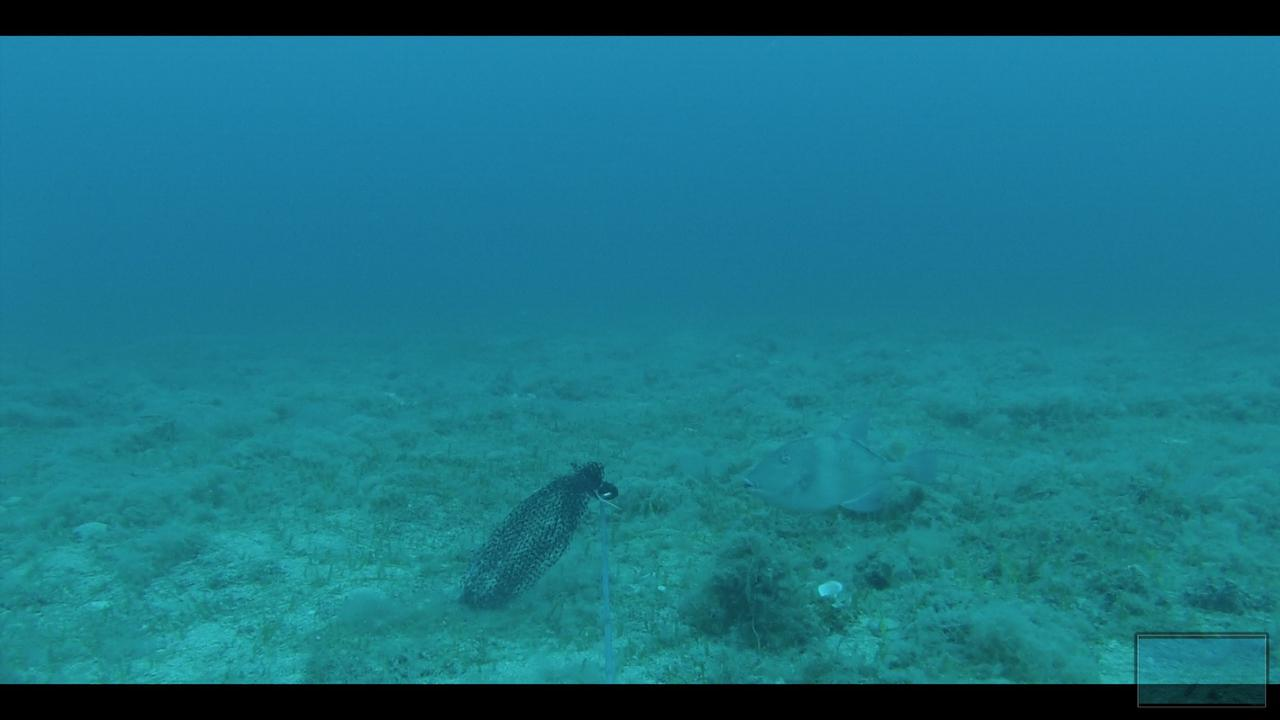balistes: (738, 409, 964, 511)
